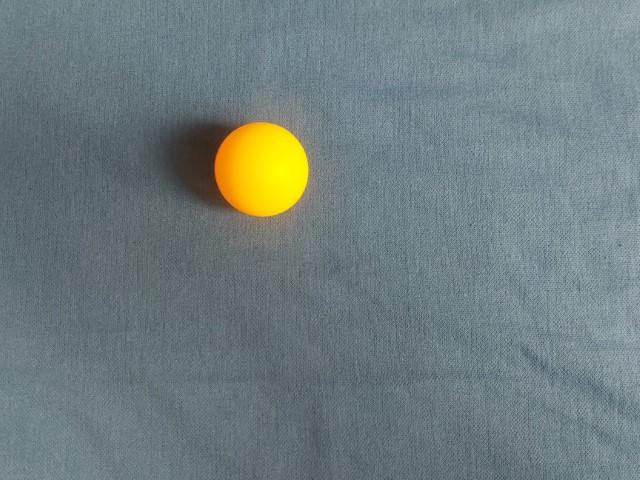oball: (328, 262, 431, 362)
